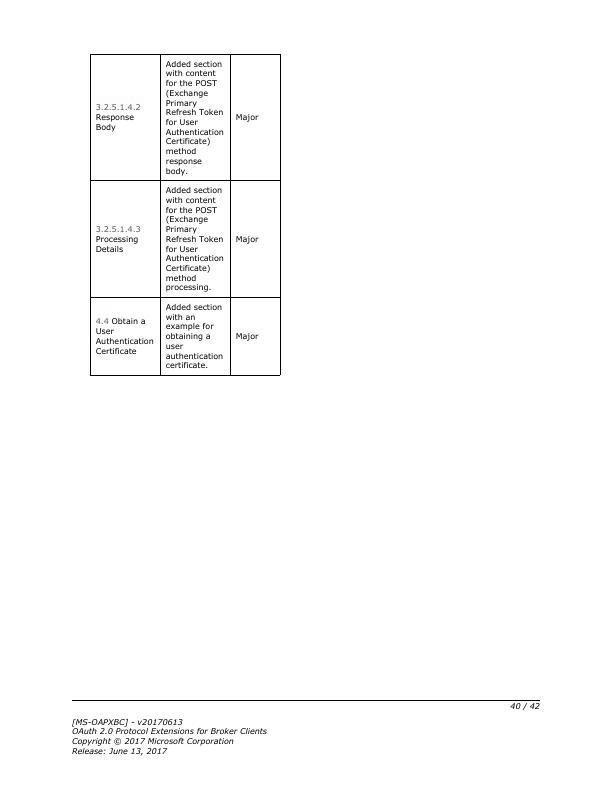table: (86, 51, 283, 380)
text: (70, 715, 270, 759)
